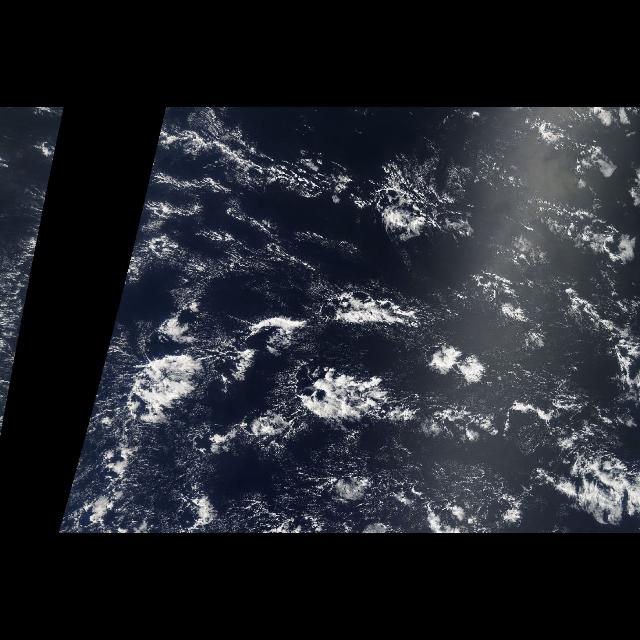Fish: (112, 277, 568, 459)
Gravel: (128, 229, 536, 533)
Sugar: (232, 433, 538, 533)
